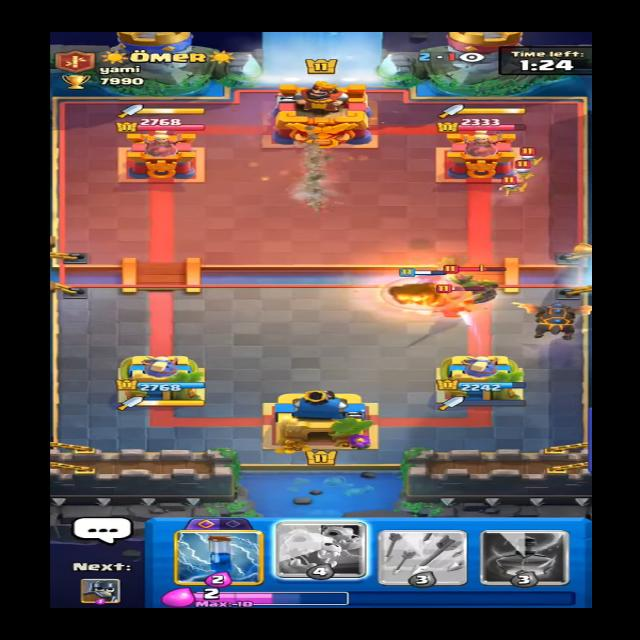goblin-demolisher: (423, 267, 521, 305)
knight: (424, 278, 492, 317)
skeleton: (499, 175, 530, 201), (511, 159, 538, 181), (520, 148, 538, 164)
trail: (292, 138, 340, 215)
